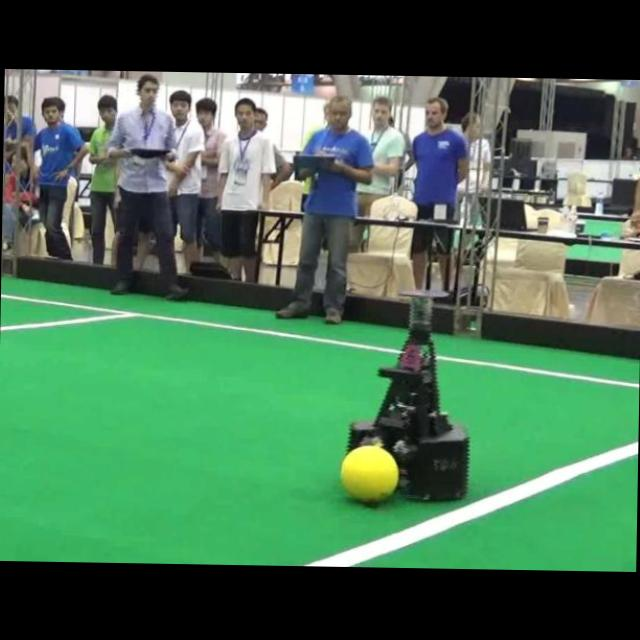ball: (340, 445, 397, 502)
robot: (348, 297, 469, 500)
